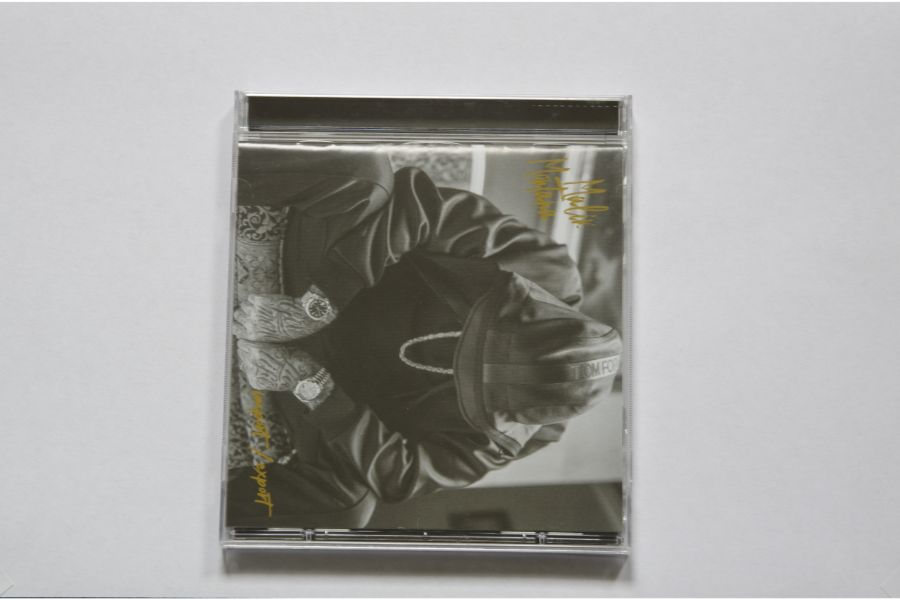album: (219, 86, 635, 560)
